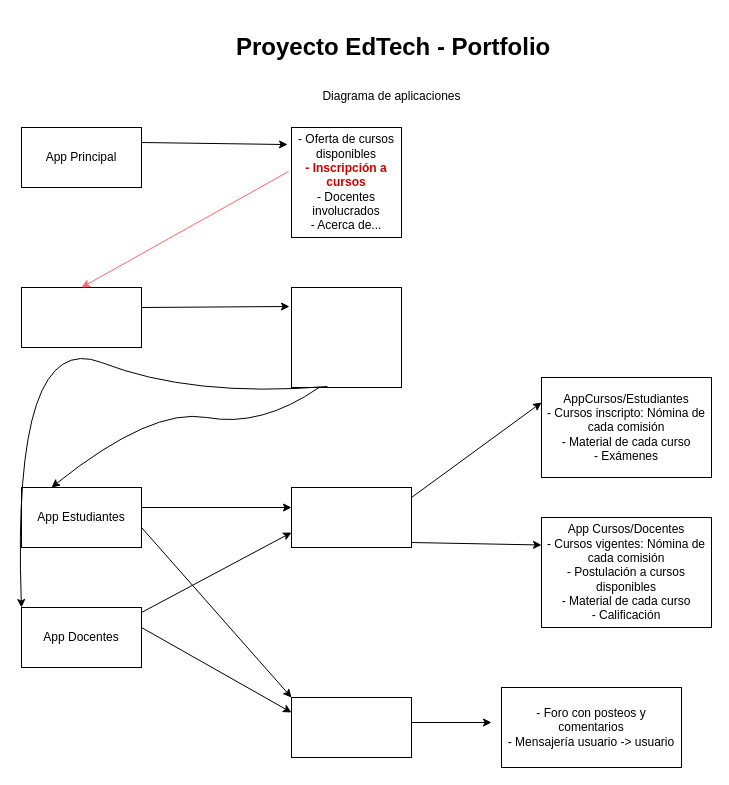
The diagram is 729 pixels wide and 785 high, and some of its shapes have lost their labels. The box of each missing label's shape, as (x1, y1, x2, y2) in pixels:
- Registro - Login - Modificar perfil - Eliminar perfil (sólo estudiantes): (290, 286, 402, 388)
App Cursos: (290, 486, 412, 548)
App Foro/Mensajería: (290, 696, 412, 758)
App Usuarios: (20, 286, 142, 348)
